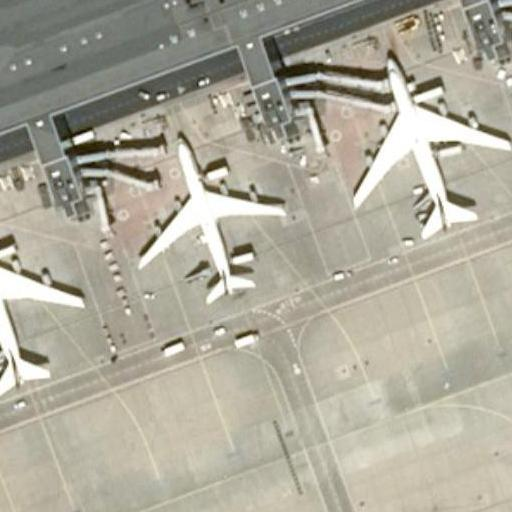Aircraft: (344, 51, 508, 238), (348, 50, 508, 238), (131, 126, 289, 305), (129, 131, 287, 306), (0, 205, 89, 400), (0, 208, 84, 402)
